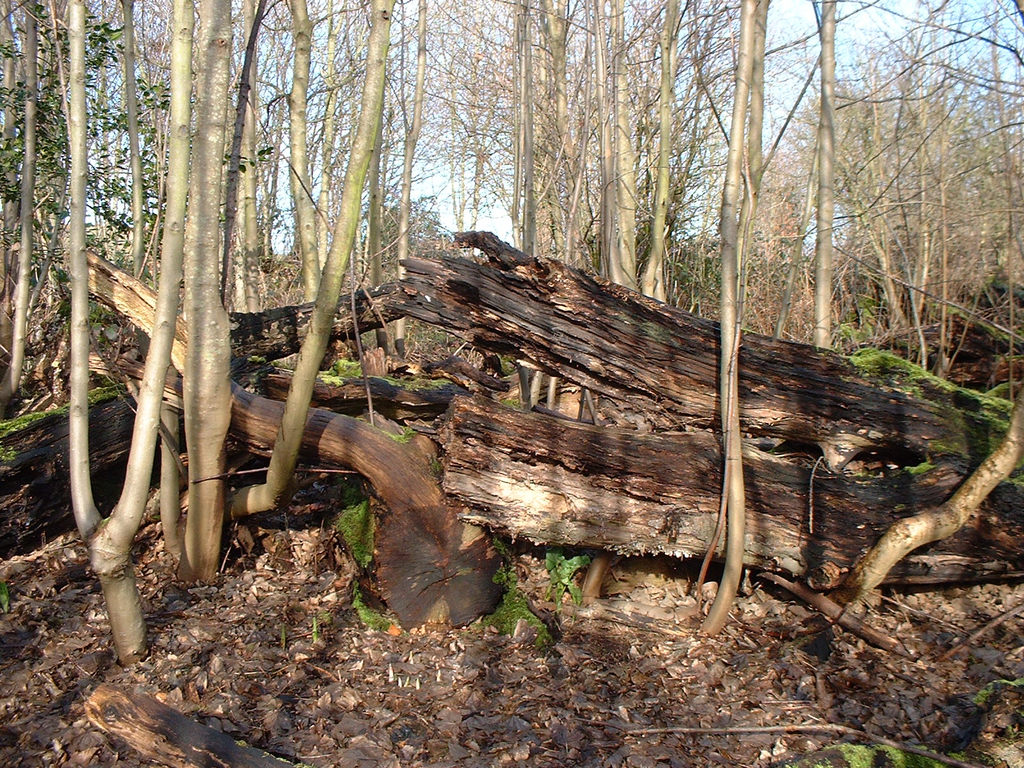Tree: (0, 0, 1024, 666)
